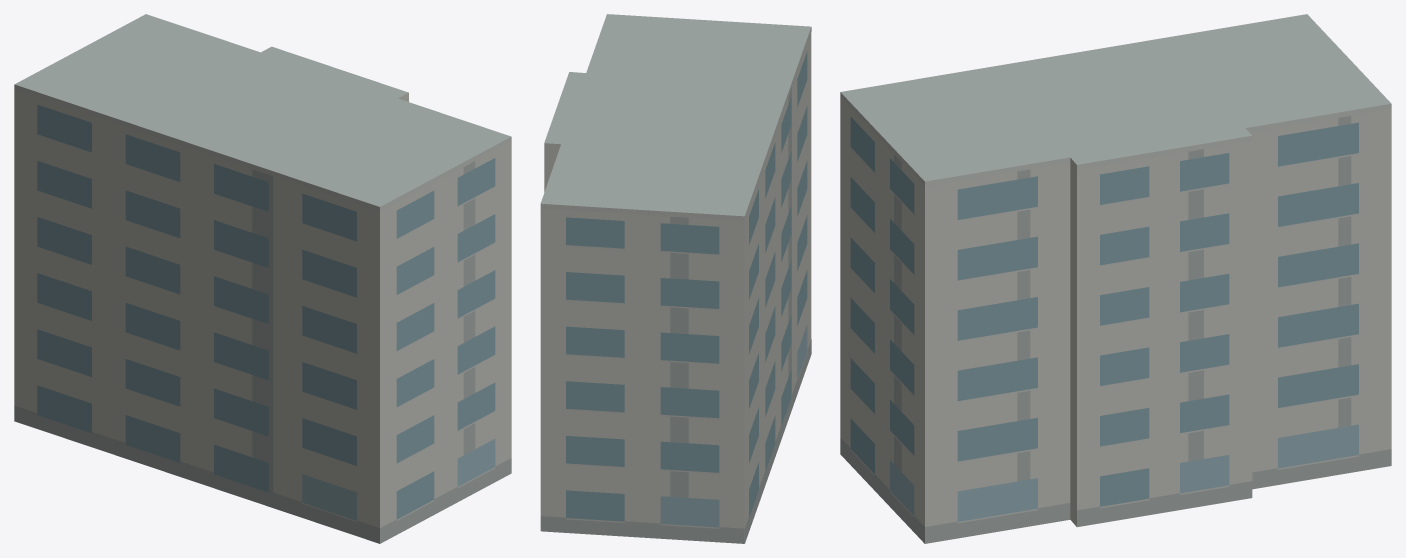
Rendered from survey-upis-32883348.glb.
3 views of the same model, side by side, from view 1: azimuth 30°, elevation 25°; view 2: azimuth 150°, elevation 25°; view 3: azimuth 270°, elevation 25° (orthographic). The views are drawn at different scales.
Parts seen in each view (by area): view 1: survey-upis-32883348.tmp; view 2: survey-upis-32883348.tmp; view 3: survey-upis-32883348.tmp.
Boxes of the visible parts, bbox=[...] form: survey-upis-32883348.tmp: bbox=[14, 14, 511, 543]; survey-upis-32883348.tmp: bbox=[540, 14, 811, 543]; survey-upis-32883348.tmp: bbox=[840, 14, 1391, 543].
Size of the model in its own units: 16.58 by 16.7 by 23.04.
